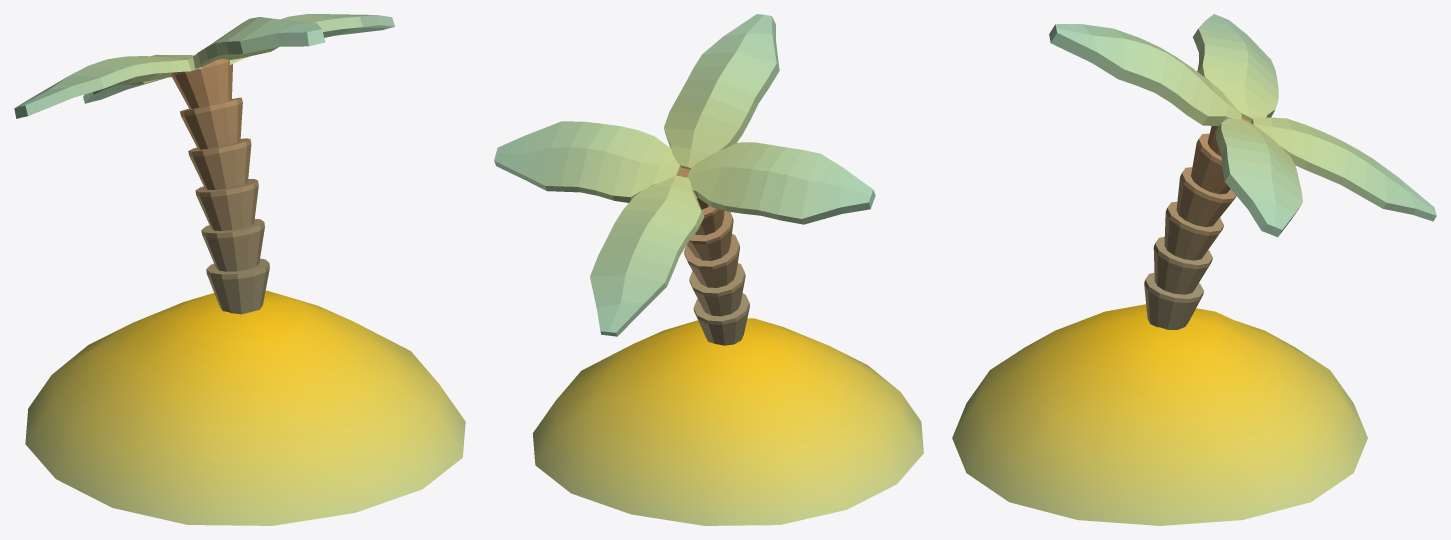
File: island.fbx
3 views of the same model, side by side, from view 1: azimuth 30°, elevation 25°; view 2: azimuth 150°, elevation 25°; view 3: azimuth 270°, elevation 25° (orthographic). The views are drawn at different scales.
Parts seen in each view (by area): view 1: Island; view 2: Island; view 3: Island.
Part boxes in pixels (bbox=[...]): Island: bbox=[14, 14, 465, 525]; Island: bbox=[494, 14, 923, 525]; Island: bbox=[952, 14, 1436, 525].
Bounding box in the file's own units: 489 × 516 × 543.
